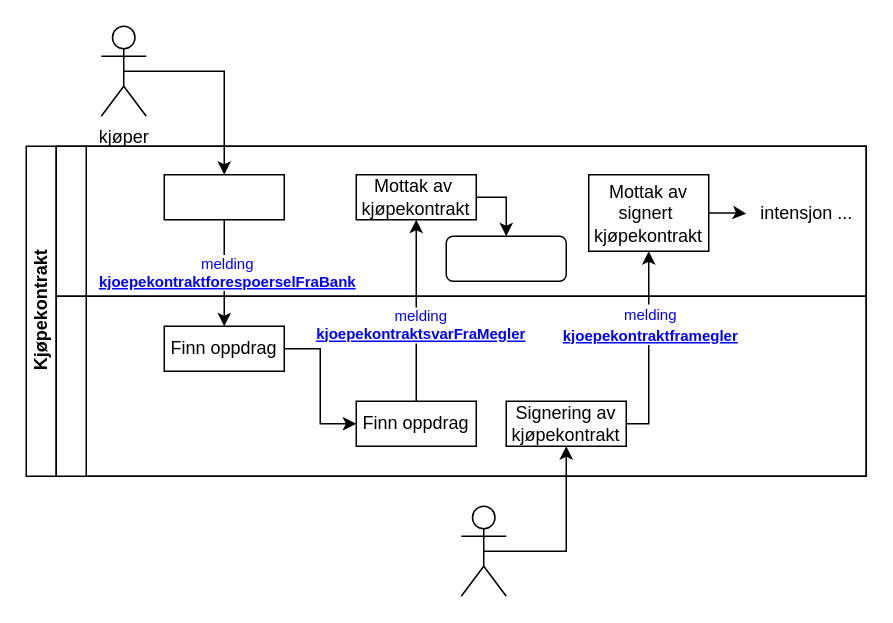
The diagram is 893 pixels wide and 623 high, and some of its shapes have lost their labels. The shapes that lost their labels are listed below. From the top down, each one's box as (x1, y1, x2, y2) in pixels, then its label:
(163, 173, 284, 220): Låneprosess
(55, 145, 866, 296): Bank
(445, 235, 566, 281): Fyll ut lånesøknad
(55, 295, 866, 476): Megler
